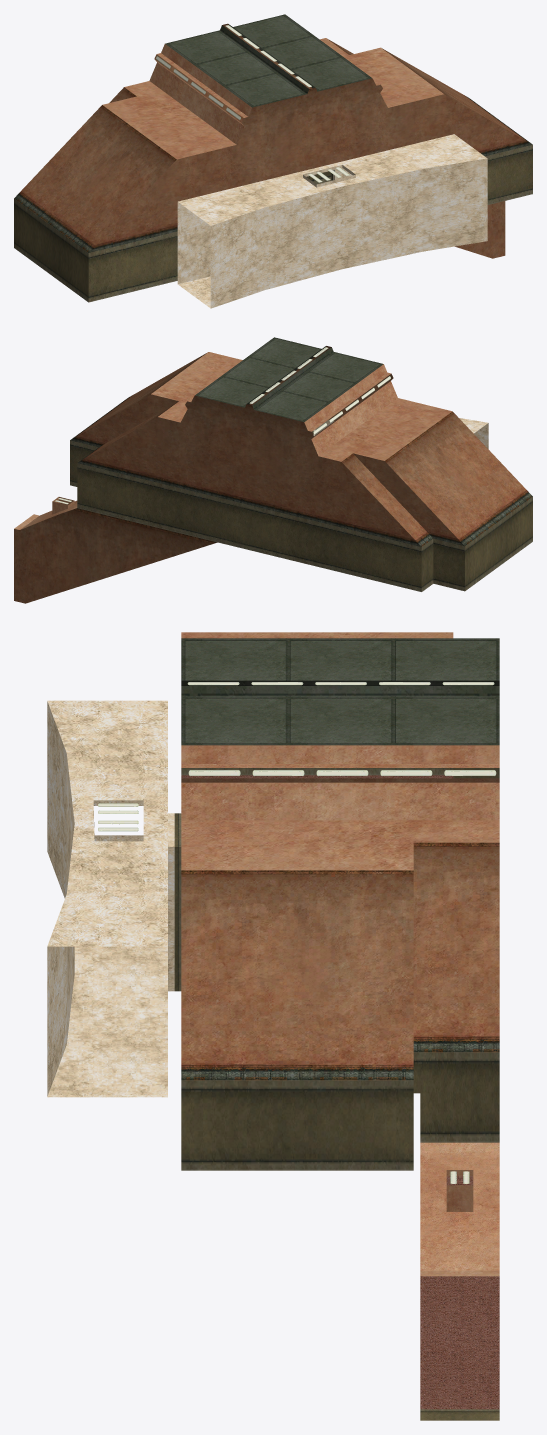
The model's file is ply_tato_theater_s01_r1_backstage_mesh_r1_l0.fbx.
3 views of the same model, one above another, from view 1: azimuth 30°, elevation 25°; view 2: azimuth 150°, elevation 25°; view 3: azimuth 270°, elevation 25° (orthographic). The views are drawn at different scales.
Visible parts, largest first — view 1: mesh_node; view 2: mesh_node; view 3: mesh_node.
Part boxes in pixels (x1=…): mesh_node: x1=14, y1=14, x2=532, y2=308; mesh_node: x1=14, y1=337, x2=532, y2=603; mesh_node: x1=47, y1=632, x2=499, y2=1420.
Size of the model in its own units: 19.12 by 10.55 by 8.53.
